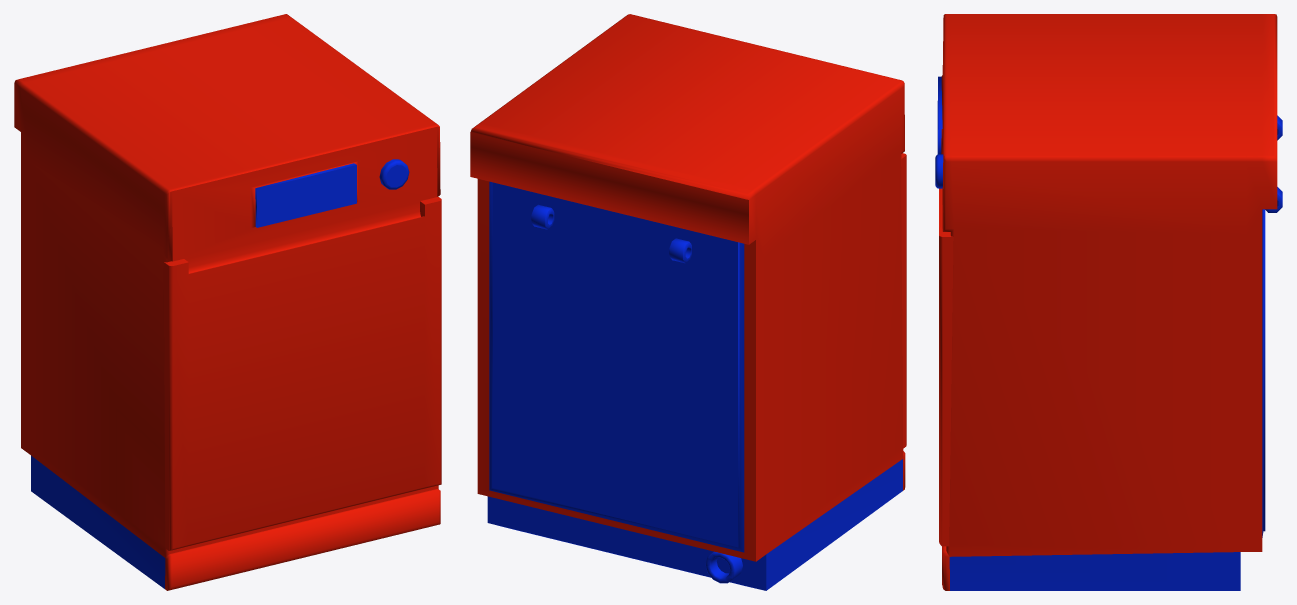
The model's file is Vaatwasser.fbx.
3 views of the same model, side by side, from view 1: azimuth 30°, elevation 25°; view 2: azimuth 150°, elevation 25°; view 3: azimuth 270°, elevation 25° (orthographic). The views are drawn at different scales.
Visible parts, largest first — view 1: vaatwasser; view 2: vaatwasser; view 3: vaatwasser.
Boxes of the visible parts, x1=… form: vaatwasser: x1=14, y1=14, x2=441, y2=590; vaatwasser: x1=470, y1=14, x2=906, y2=590; vaatwasser: x1=935, y1=14, x2=1282, y2=590.
Bounding box in the file's own units: 60 × 85 × 60.92.
